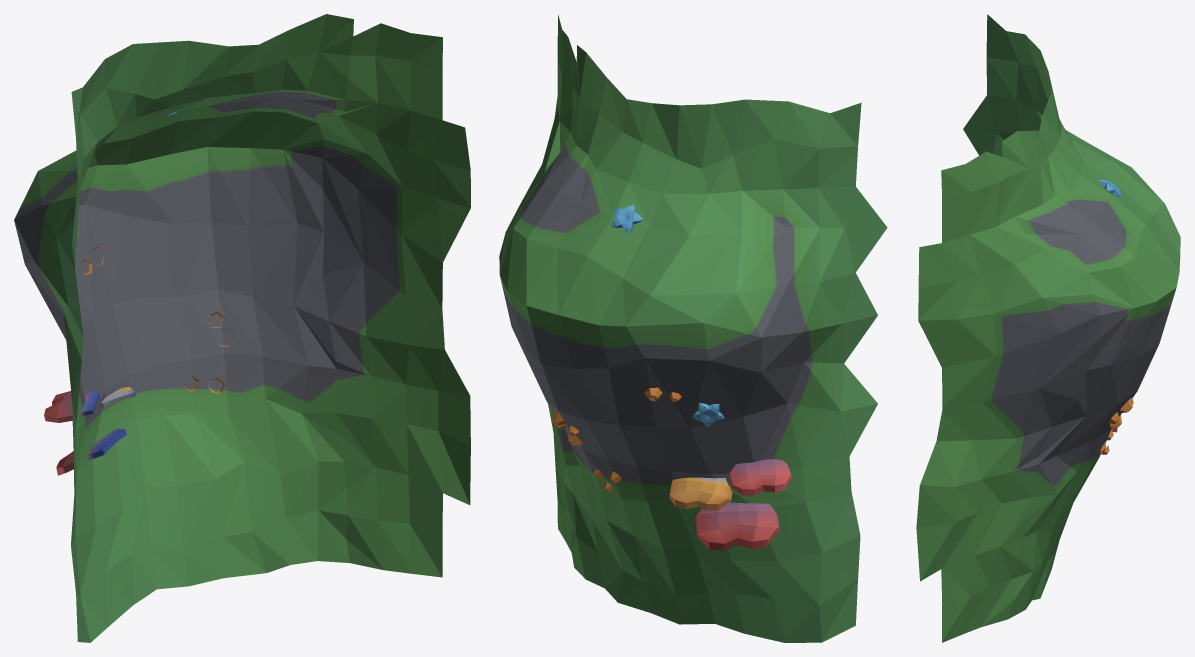
File: Ground_05.FBX
3 renders of one model, left to right at view 1: azimuth 30°, elevation 25°; view 2: azimuth 150°, elevation 25°; view 3: azimuth 270°, elevation 25°, orthographic. The views are drawn at different scales.
Parts seen in each view (by area): view 1: Ground_005; view 2: Ground_005; view 3: Ground_005.
Part boxes in pixels (bbox=[...]): Ground_005: bbox=[14, 14, 470, 642]; Ground_005: bbox=[499, 14, 887, 642]; Ground_005: bbox=[916, 14, 1180, 642].
Size of the model in its own units: 10.37 by 15.12 by 7.26.
